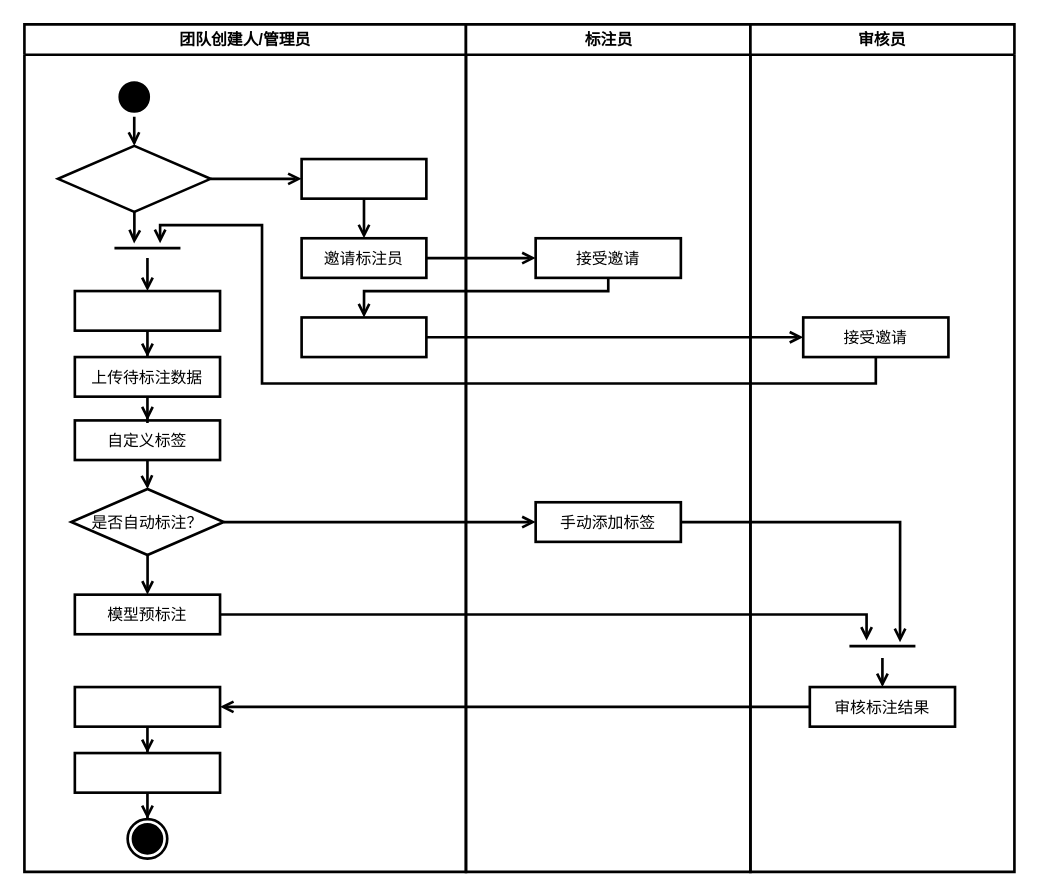
The diagram is 1038 pixels wide and 895 high, and some of its shapes have lost their labels. Here are the shapes that lost their labels. From the top down, the centre of each, then its label:
At pixel 133 178: "是否个人标注？".
At pixel 363 178: "创建标注团队".
At pixel 147 310: "创建标注任务".
At pixel 363 336: "邀请审核员".
At pixel 147 706: "导出数据".
At pixel 147 772: "训练新的标注模型".
